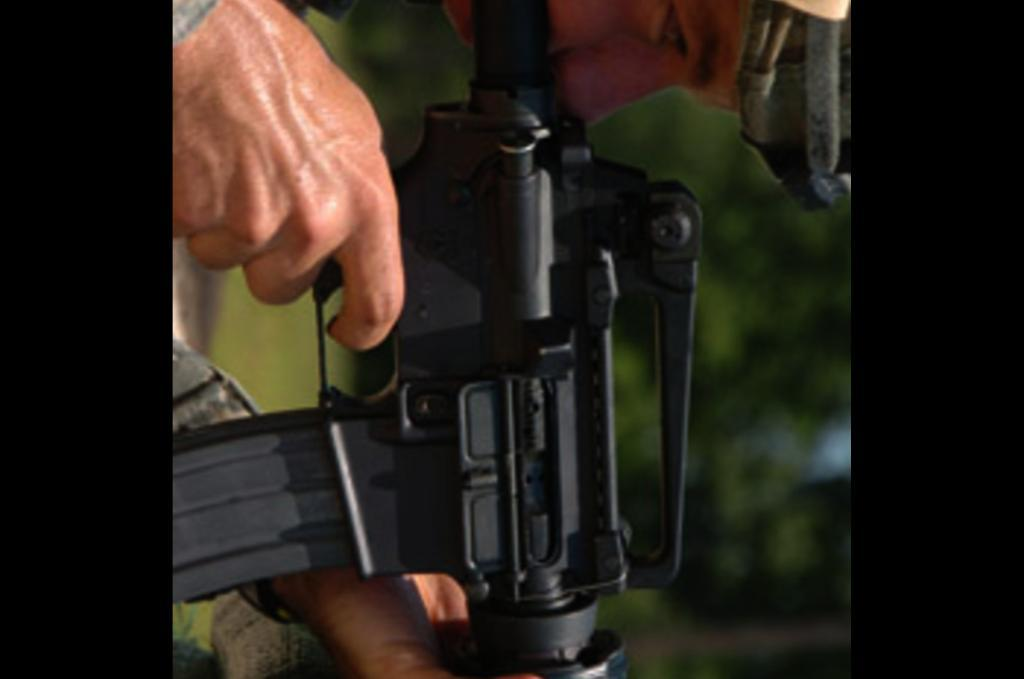gun: (337, 0, 702, 679)
